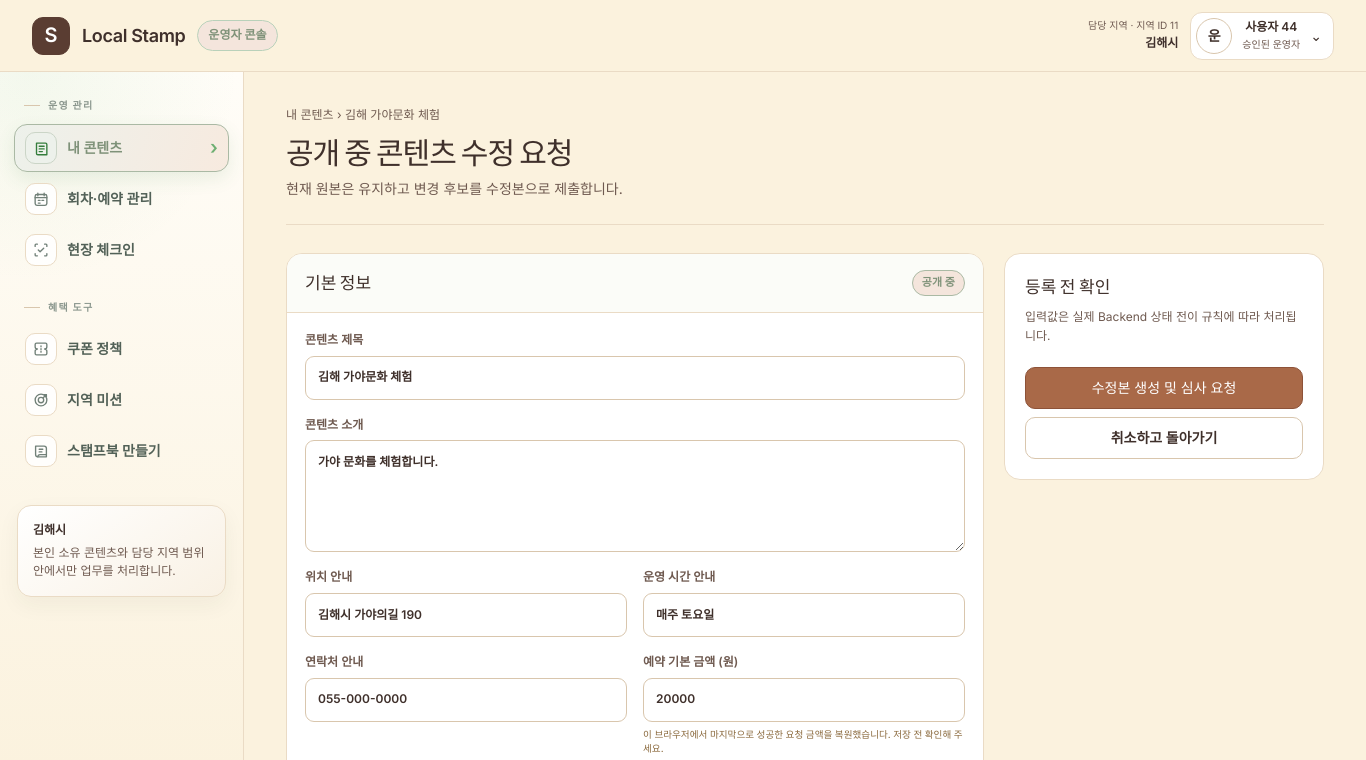
Scenario: 운영자 콘텐츠 수정본 생성·철회 흐름 › 확인 후 수정본을 생성하고 전용 화면에서 철회한다
Click the button "수정본 생성 및 심사 요청".
click(1164, 388)  # box [1025, 367, 1303, 409]
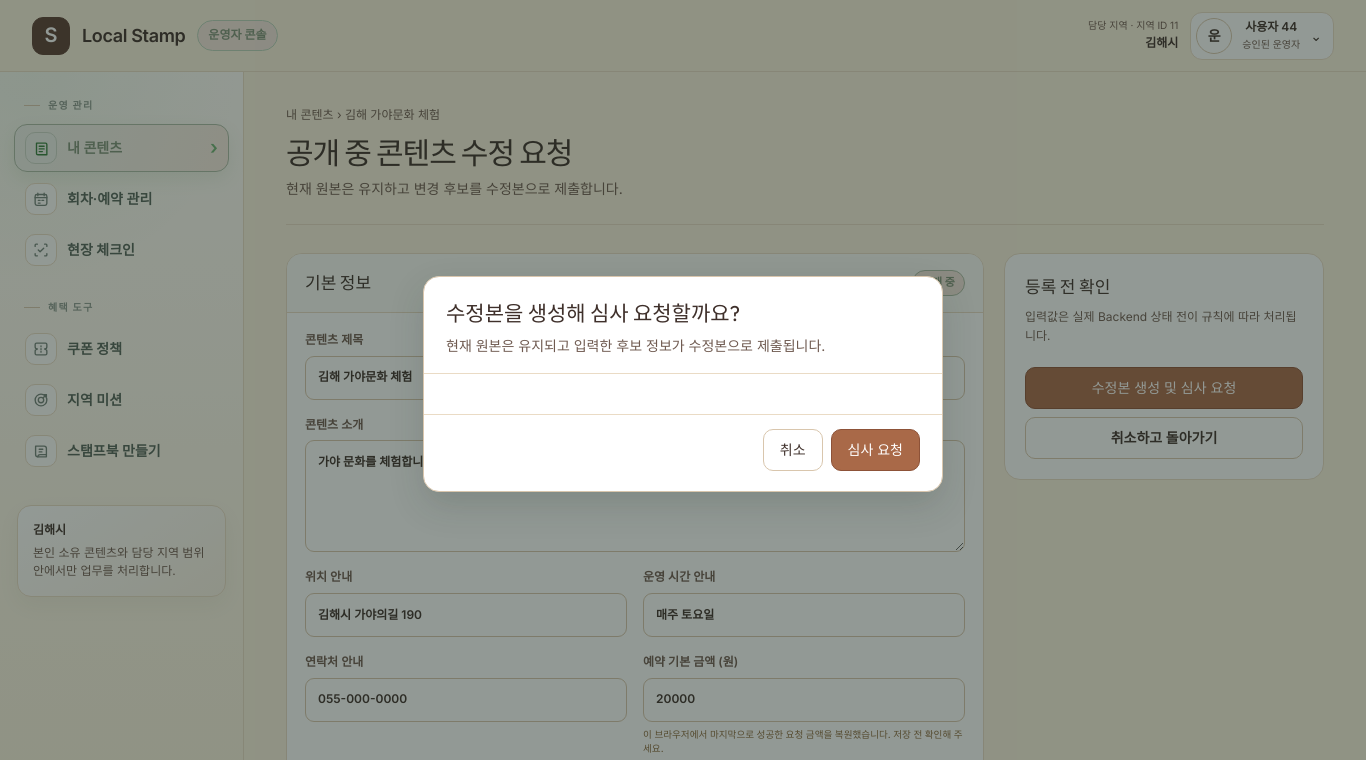
Now the heading "수정본을 생성해 심사 요청할까요?" is shown, box [446, 300, 740, 326]
Click the button "심사 요청".
click(875, 450)  # box [830, 429, 920, 471]
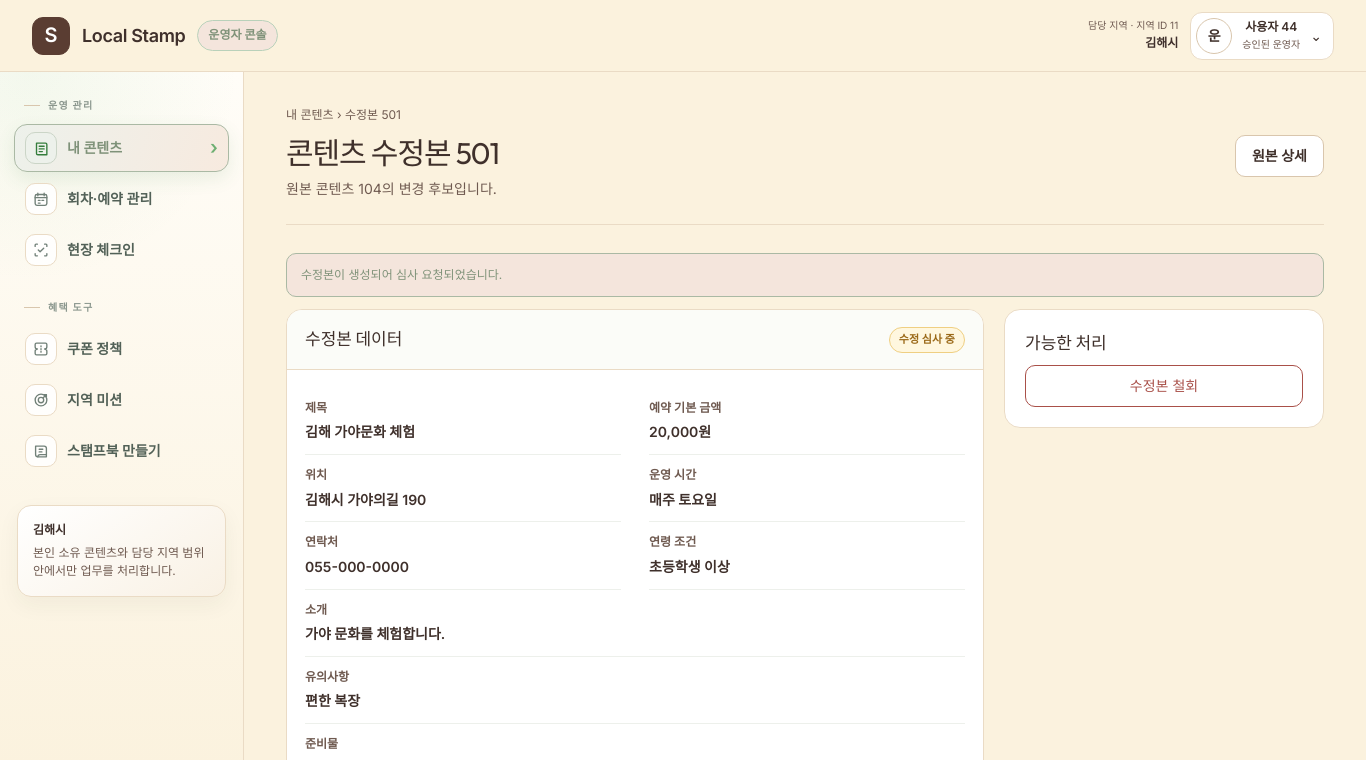
Now the heading "콘텐츠 수정본 501" is shown, box [286, 135, 499, 172]
Now the text "가야 문화를 체험합니다." is shown, box [305, 625, 445, 642]
Click the button "수정본 철회".
click(1164, 386)  # box [1025, 365, 1303, 407]
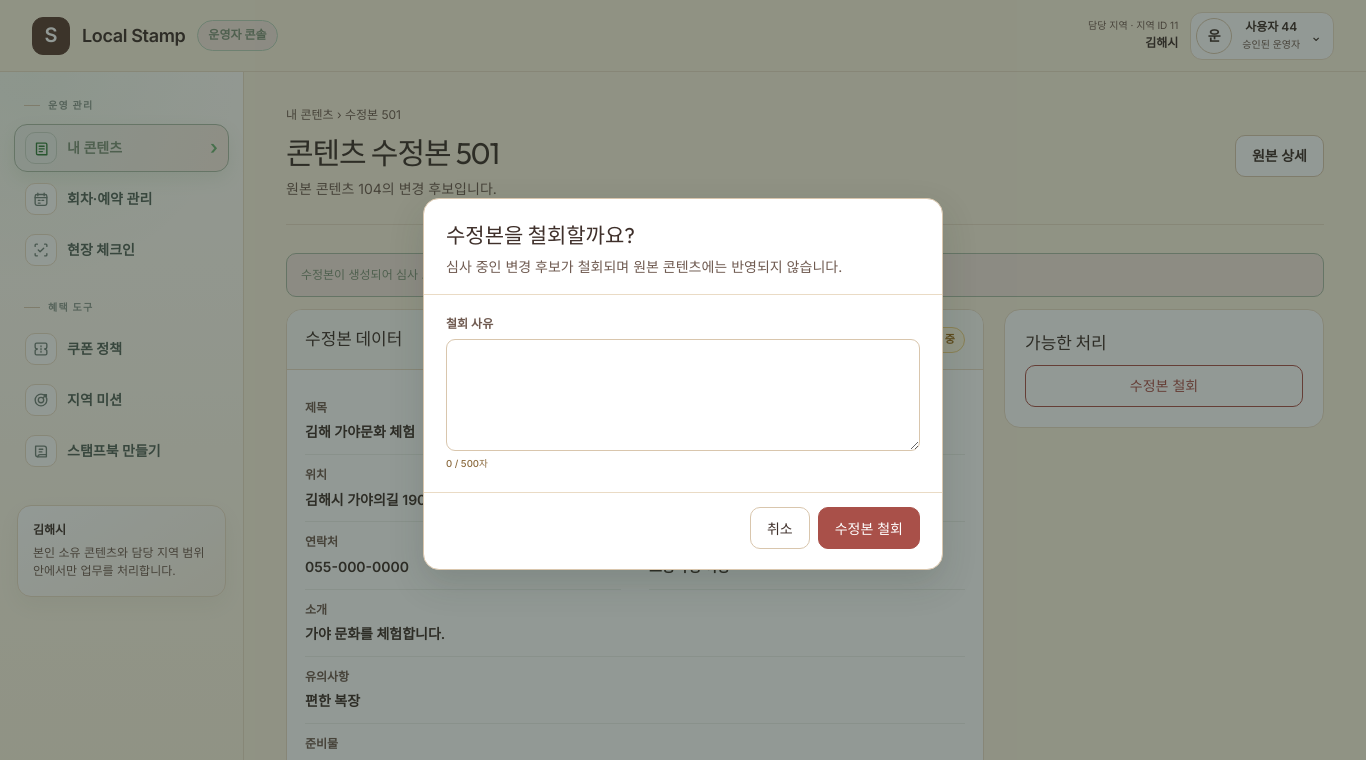
Type "일정 변경" into the text box.
click(683, 396); type("일정 변경")  # box [446, 340, 920, 452]
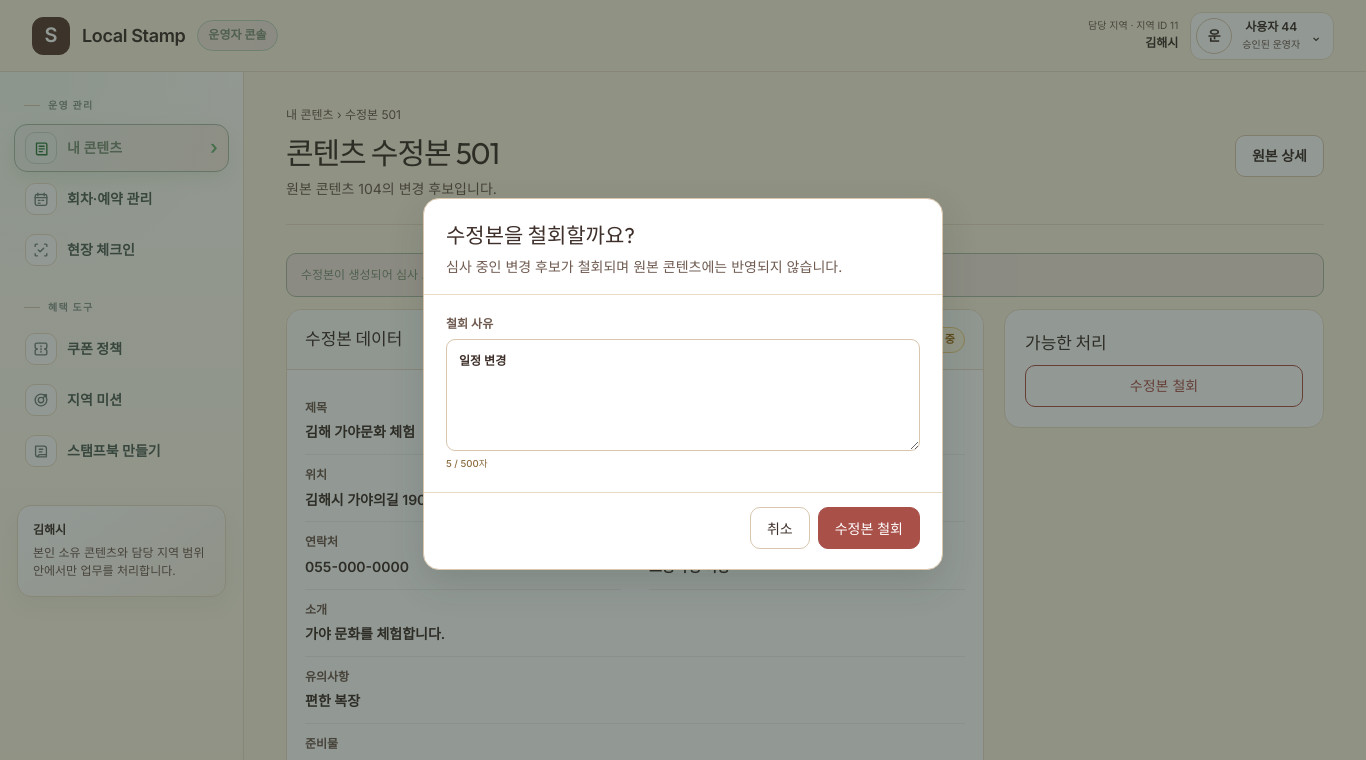
Click the button "수정본 철회".
click(869, 528)  # box [818, 507, 920, 549]
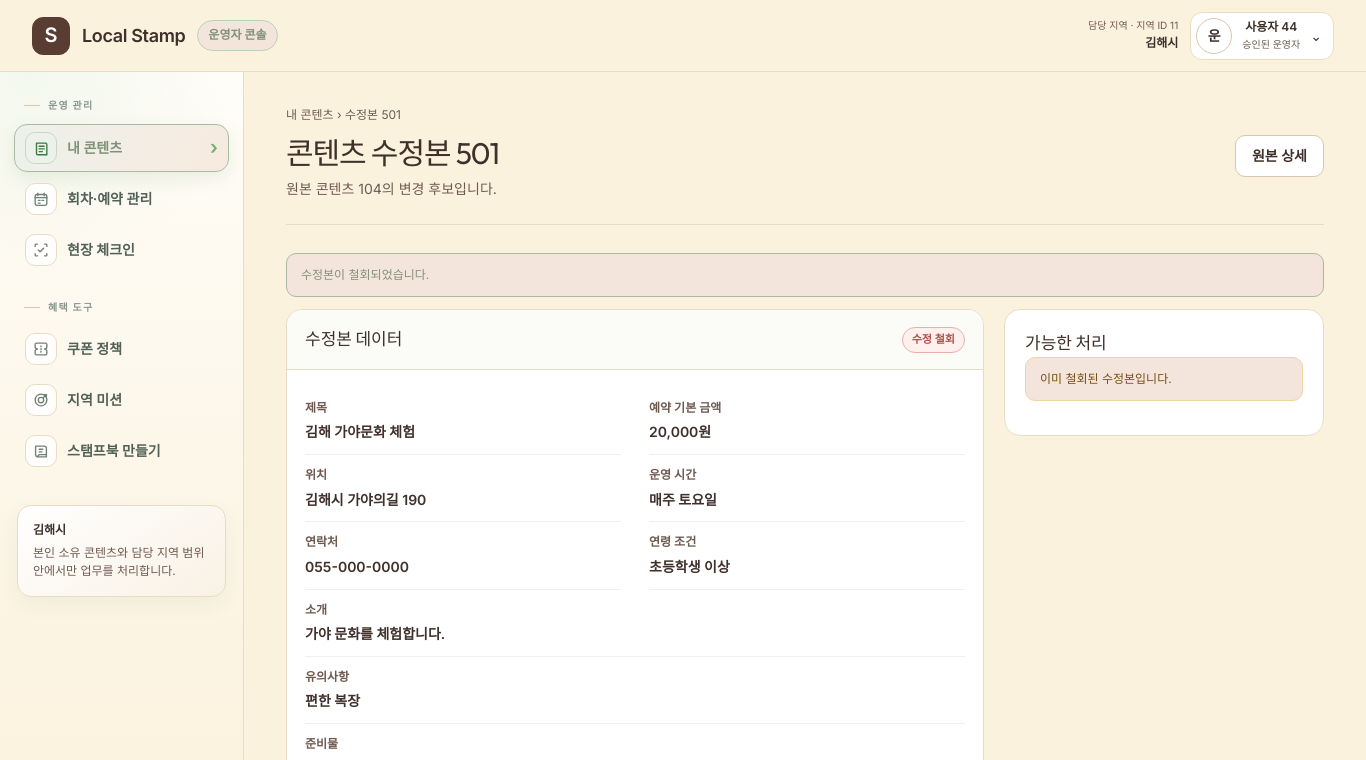
Now the text "수정본이 철회되었습니다." is shown, box [286, 253, 1324, 297]
Now the text "이미 철회된 수정본입니다." is shown, box [1025, 357, 1303, 401]
